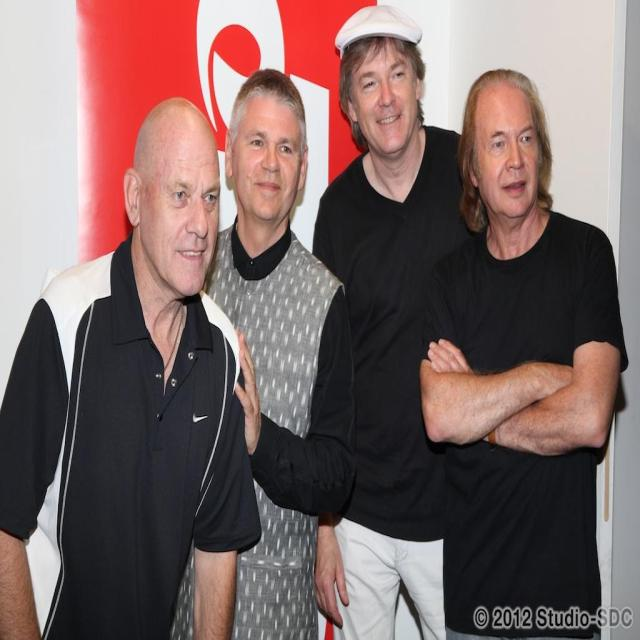Face: (134, 111, 225, 302), (225, 82, 313, 232), (465, 72, 557, 208), (344, 33, 430, 162)
